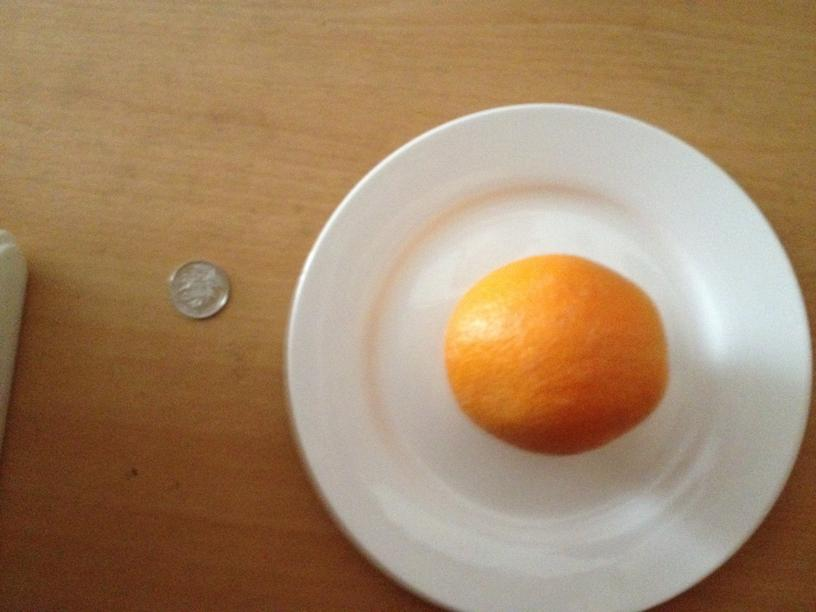coin: (166, 257, 231, 320)
orange: (443, 249, 669, 455)
